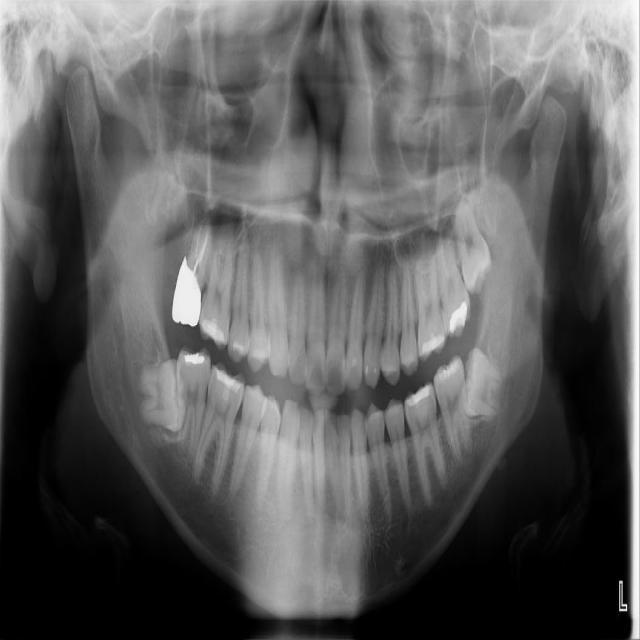52: (419, 353, 479, 410), (201, 359, 249, 423), (396, 380, 448, 436), (172, 344, 214, 399), (197, 289, 232, 352), (169, 271, 207, 329), (417, 304, 448, 364), (441, 279, 472, 339), (363, 343, 383, 390), (344, 350, 363, 391)
73: (176, 214, 216, 293), (590, 568, 590, 582)
BioHorizons Implant: (434, 218, 473, 340)
BioLife Implant: (447, 196, 499, 297)
Biomet 3i Implant: (457, 346, 507, 421)
Blue Sky Bio Implant: (430, 354, 476, 471)
Caries: (169, 212, 219, 328)
Implant: (170, 345, 213, 465)
Keystone Dental Implant: (139, 358, 186, 433)
